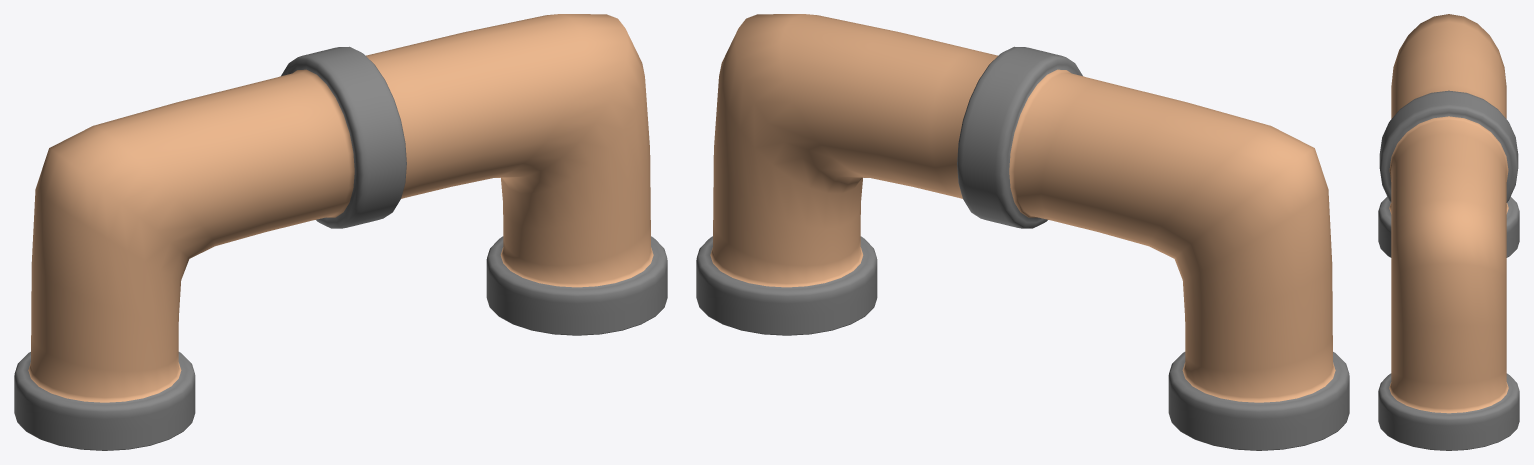
Rendered from GroundPipe.fbx.
3 renders of one model, left to right at view 1: azimuth 30°, elevation 25°; view 2: azimuth 150°, elevation 25°; view 3: azimuth 270°, elevation 25°, orthographic. The views are drawn at different scales.
Parts seen in each view (by area): view 1: Elbow Joint; view 2: Elbow Joint; view 3: Elbow Joint.
Part boxes in pixels (x1,y1,x2,y2): Elbow Joint: (14, 14, 667, 450); Elbow Joint: (696, 14, 1349, 450); Elbow Joint: (1378, 14, 1519, 450).
Bounding box in the file's own units: 933 × 422 × 233.
